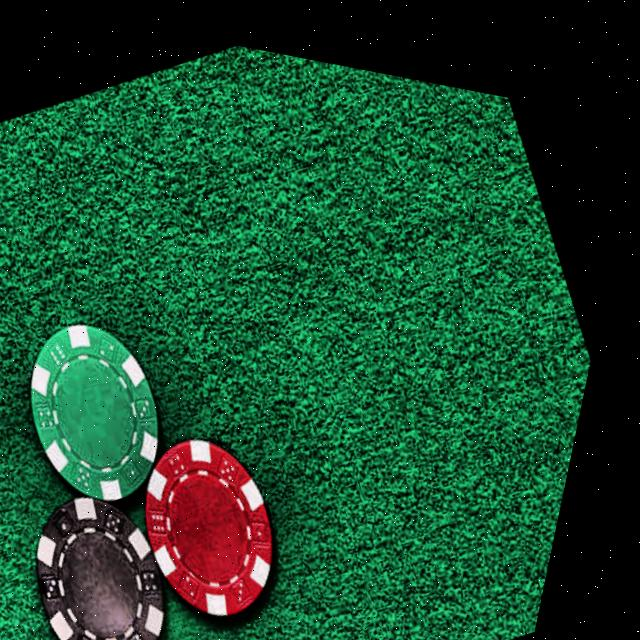Chip: (106, 378, 361, 640), (0, 271, 233, 536), (8, 449, 248, 640)
